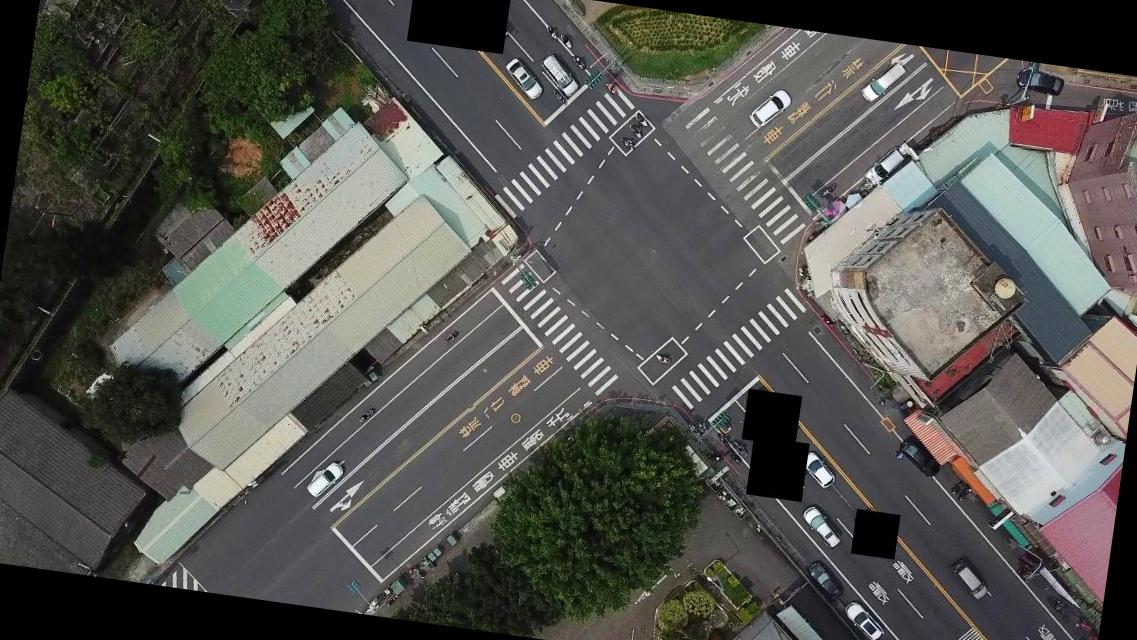vehicle: (862, 142, 908, 191), (748, 84, 794, 132), (860, 60, 906, 108), (536, 52, 582, 98), (502, 57, 546, 102), (798, 506, 843, 550), (895, 438, 942, 479), (947, 560, 991, 602), (841, 601, 888, 639), (806, 561, 846, 603), (307, 458, 344, 502), (799, 451, 840, 490), (1013, 68, 1066, 98), (468, 0, 504, 4)
